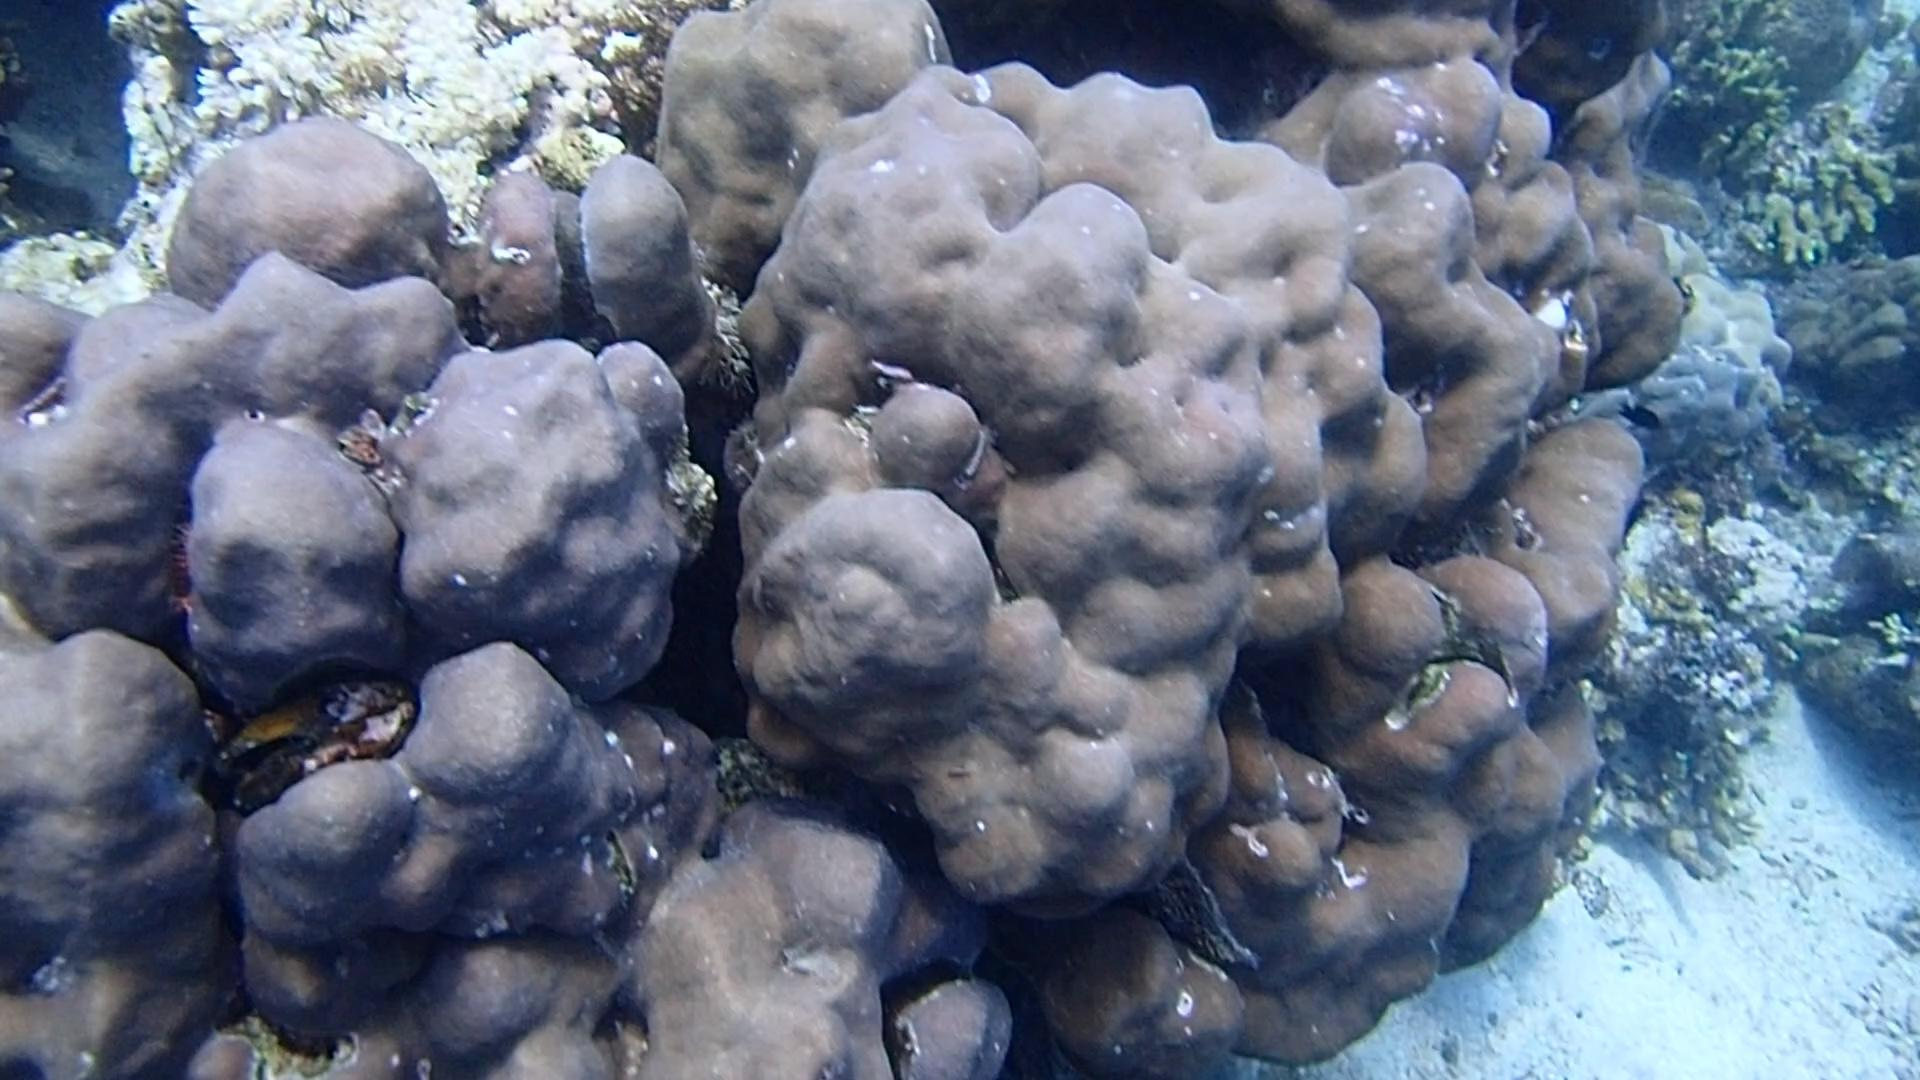Dark Fish: (1611, 393, 1672, 443)
